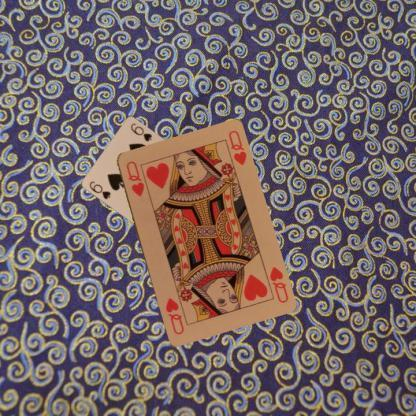6s: (86, 178, 112, 200)
Qh: (266, 263, 289, 304), (124, 158, 146, 198)
